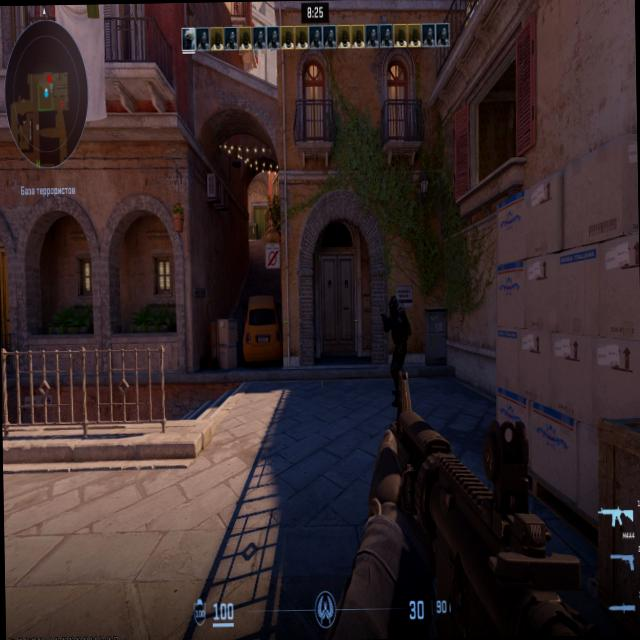CT: (386, 293, 403, 388)
CT_heat: (391, 299, 397, 315)
